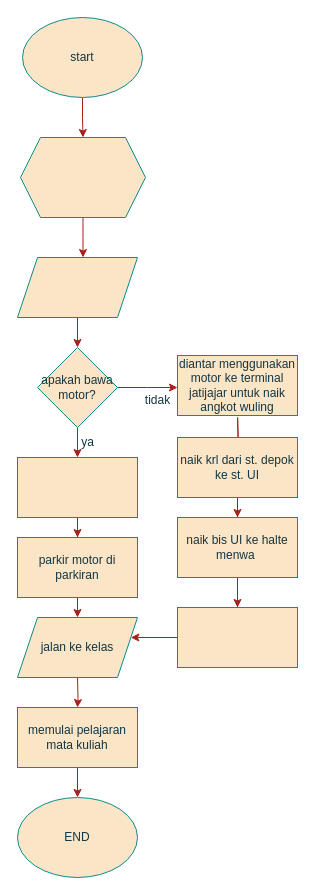
Image size: 315x895. Some labels were removed from this diagram. Each missing label, with the box of its shape:
bangun, mandi, makan, repare bekel, prepare bawaan tas: (20, 136, 146, 218)
berangkat ke kampus: (16, 456, 138, 518)
menyebrangi JPO, dan jalan ke gerbang kampus: (176, 606, 298, 668)
pergi ke kampus: (16, 256, 138, 318)
